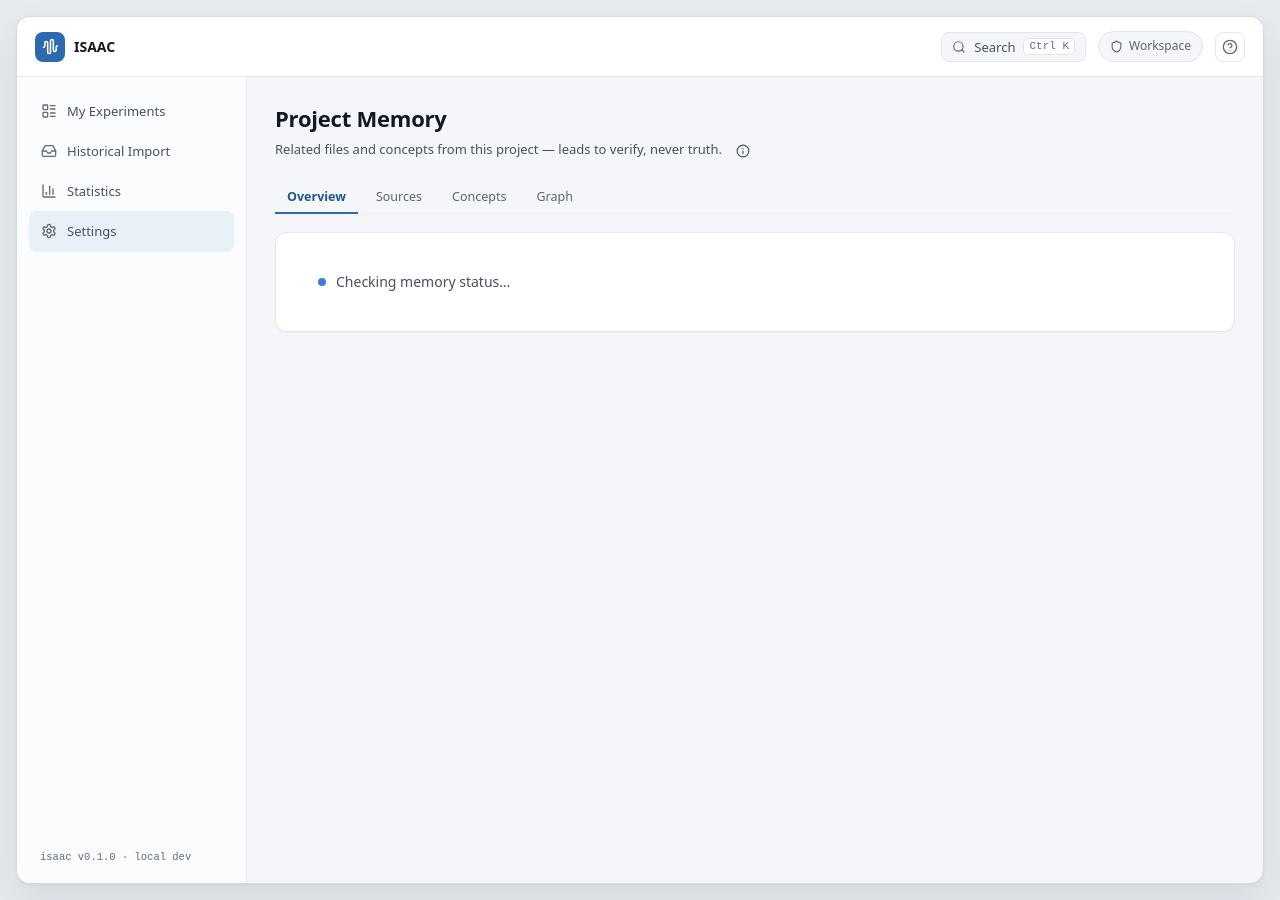
P24.5 · Concept Lookup — unavailable › renders a compact honest unavailable note, zero concept rows, no error/red styling
Click the tab "Concepts": (479, 198) [440, 181, 518, 214]
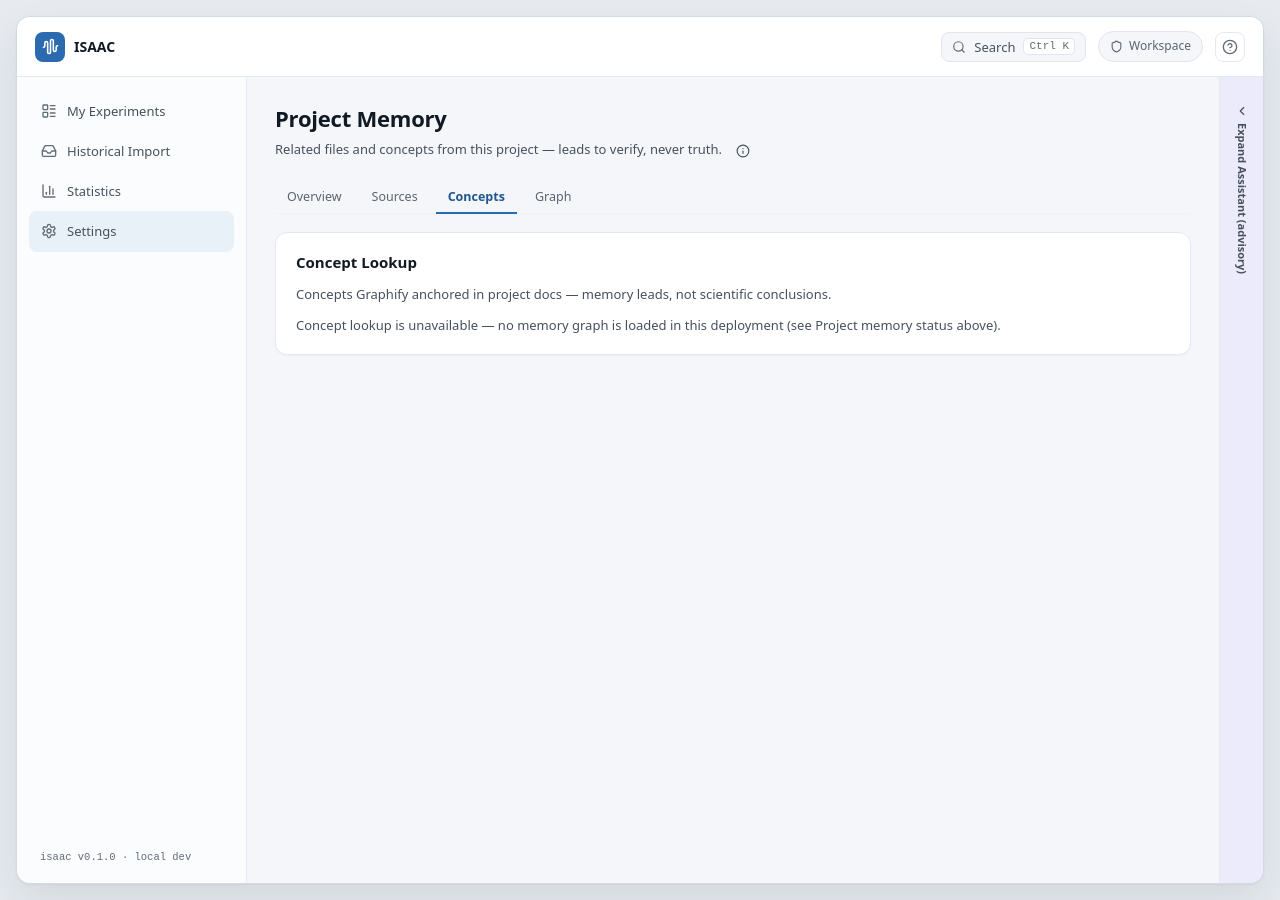
Check: the text "Concept lookup is unavailable" is shown, box [296, 316, 1001, 334]
